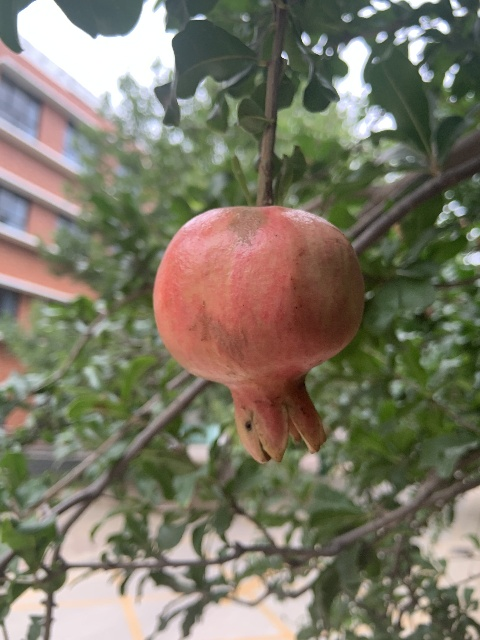ripe: (153, 205, 365, 464)
